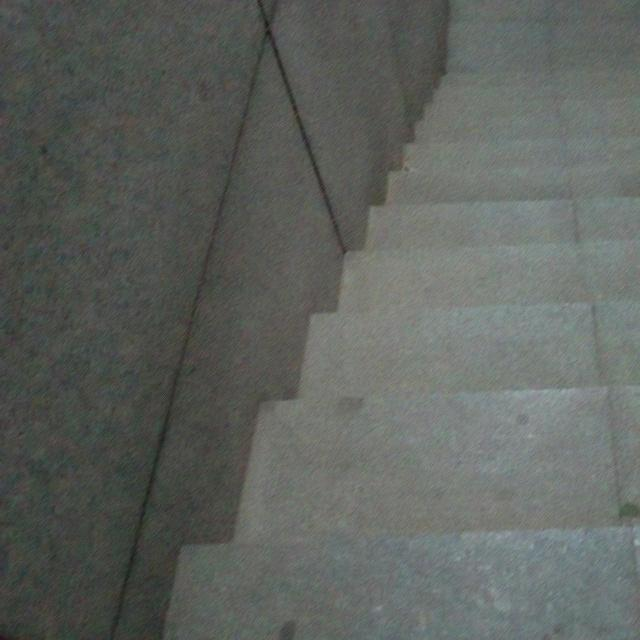stair: (355, 41, 640, 597)
